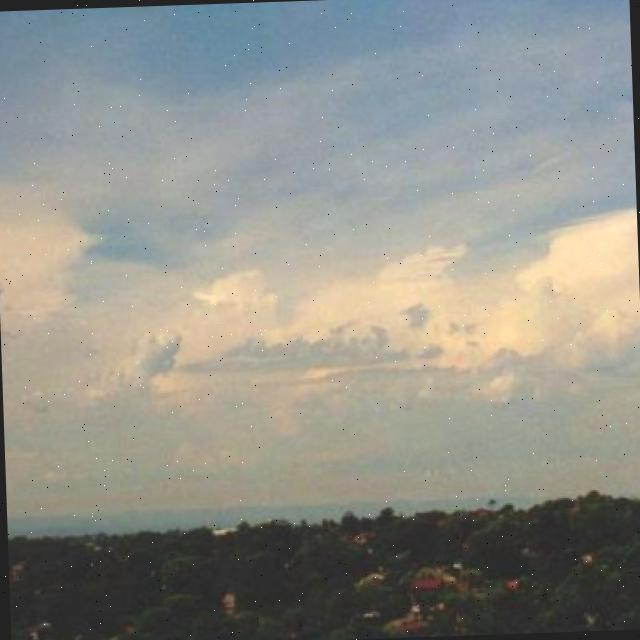Cs: (1, 105, 640, 499)
